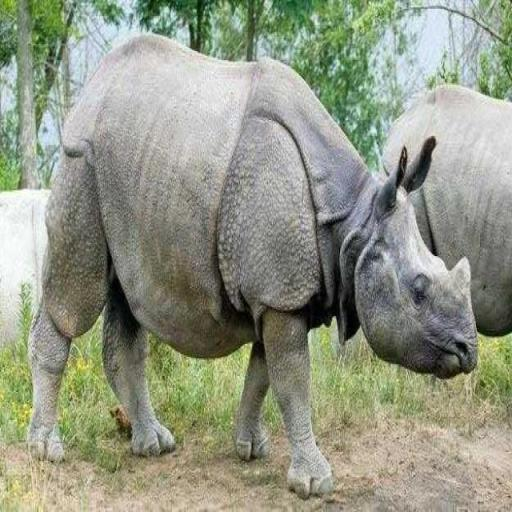Rhino: (25, 31, 479, 499), (379, 80, 511, 338)
